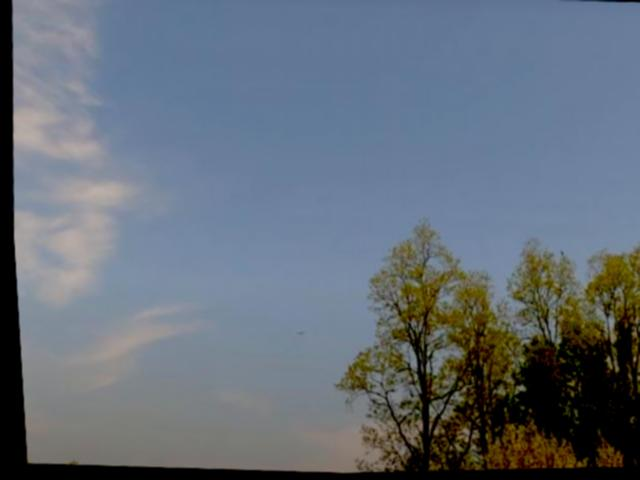iha: (291, 331, 302, 337)
